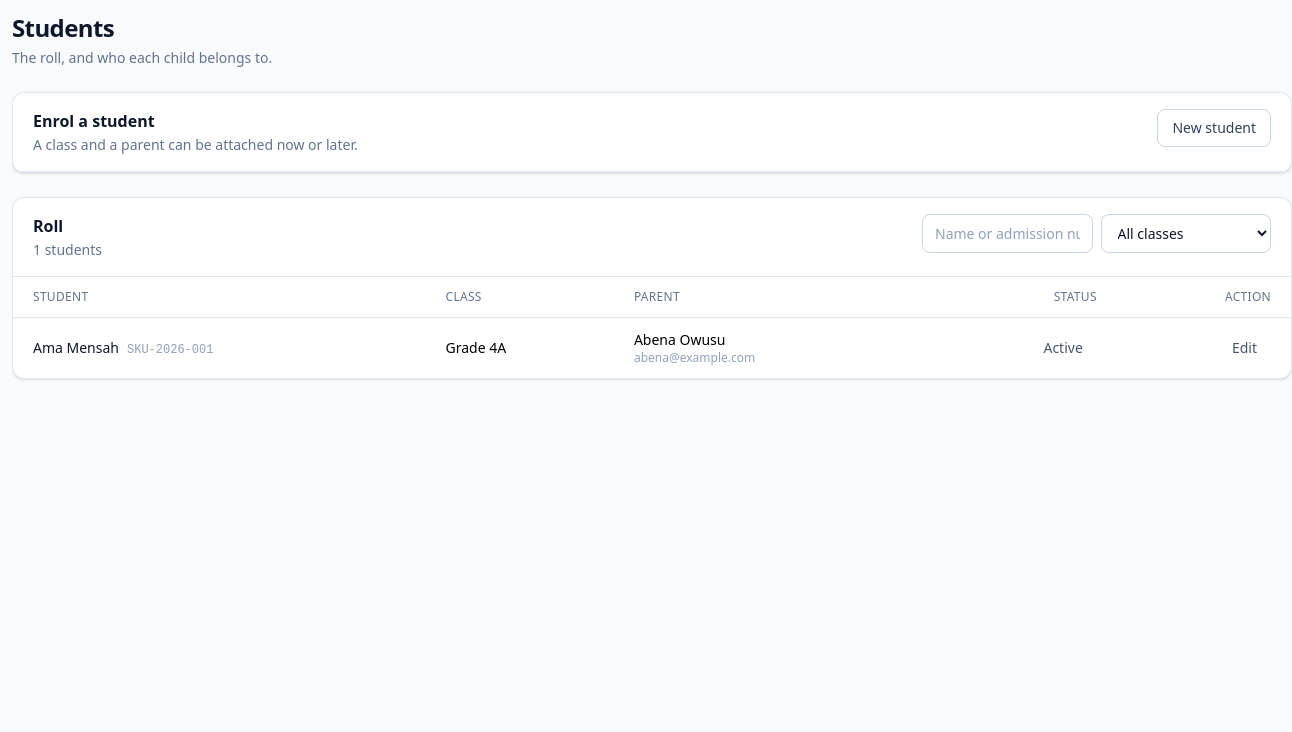
Test: editing a student › keeps the editor open and says why when the API refuses
The image size is (1292, 732).
Expected: the link "Ama Mensah" is shown, [33,338,119,357]
Click the button "Edit". click: coordinates (1244, 348)
box: [1218,330,1271,366]
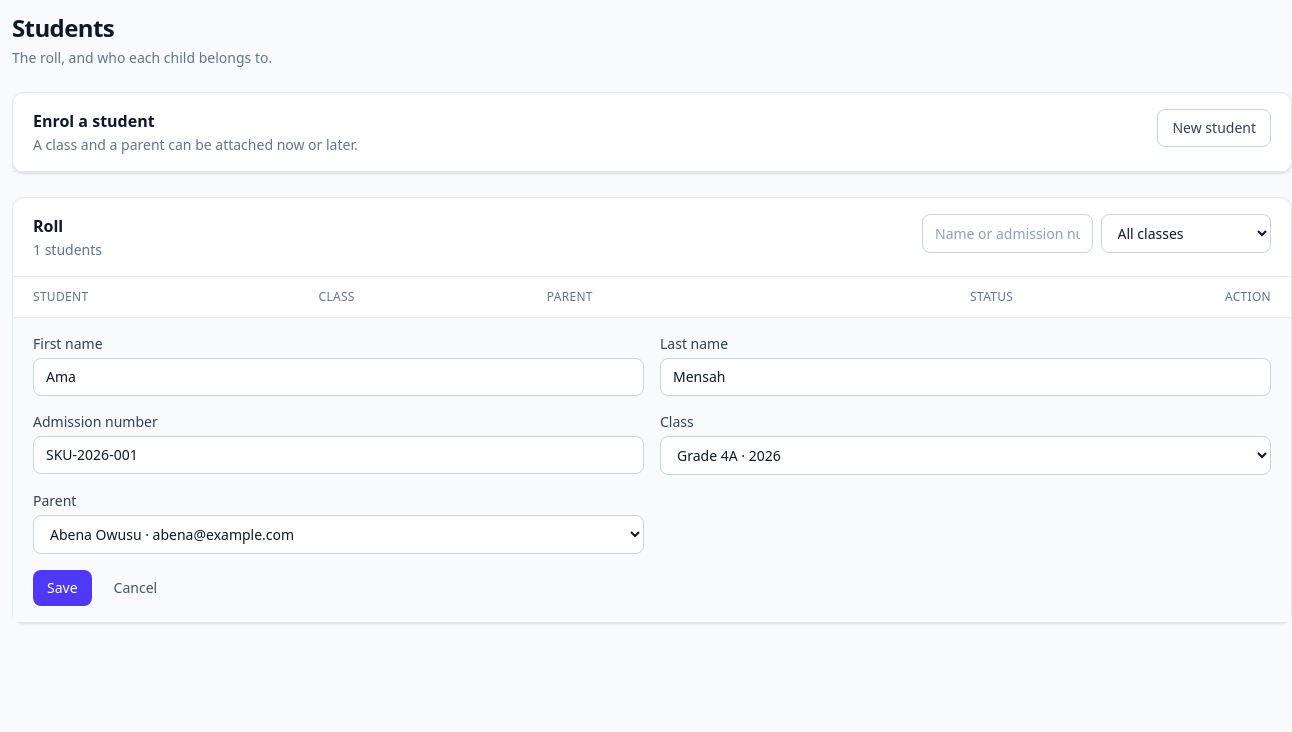
Expected: the dropdown labelled "Class" is shown, [660,436,1271,475]
Click the button "Save". click: coordinates (62, 588)
box: [33,570,92,606]
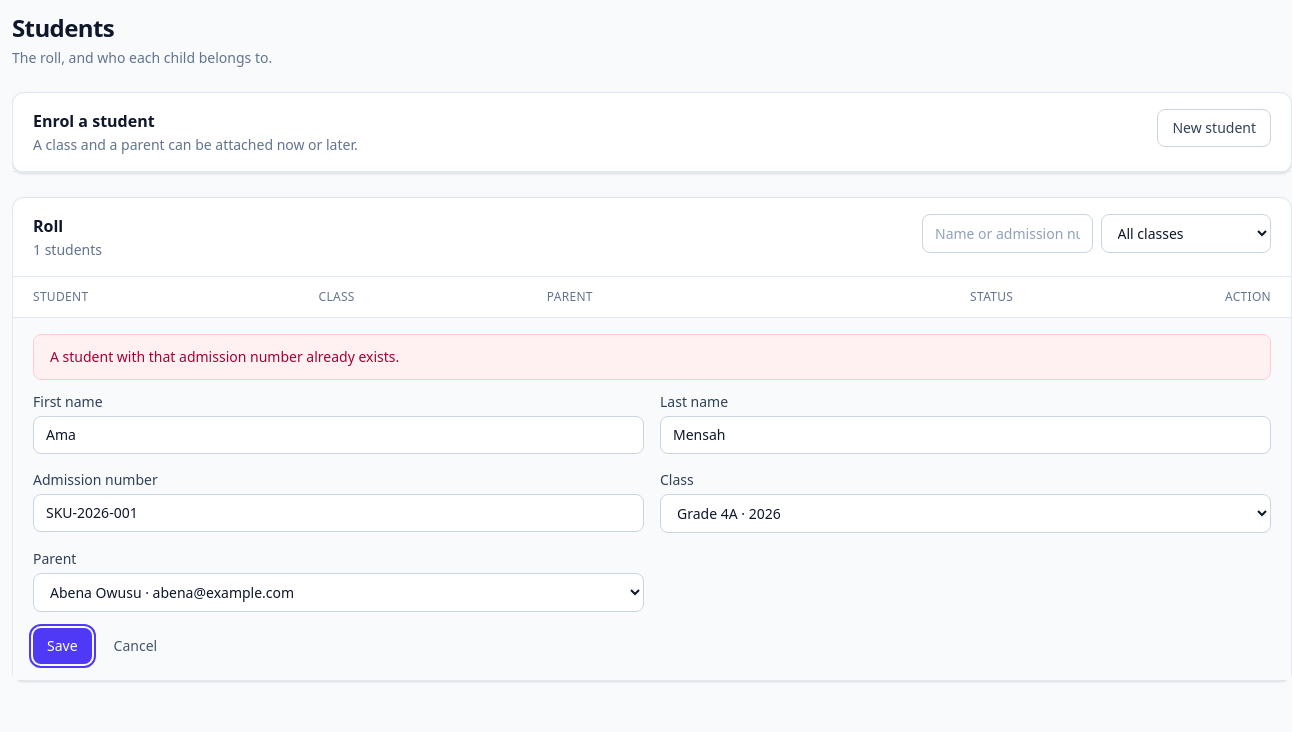
Expected: the dropdown labelled "Class" is shown, [660,494,1271,533]
Expected: the message shows "already exists", [50,347,399,366]
